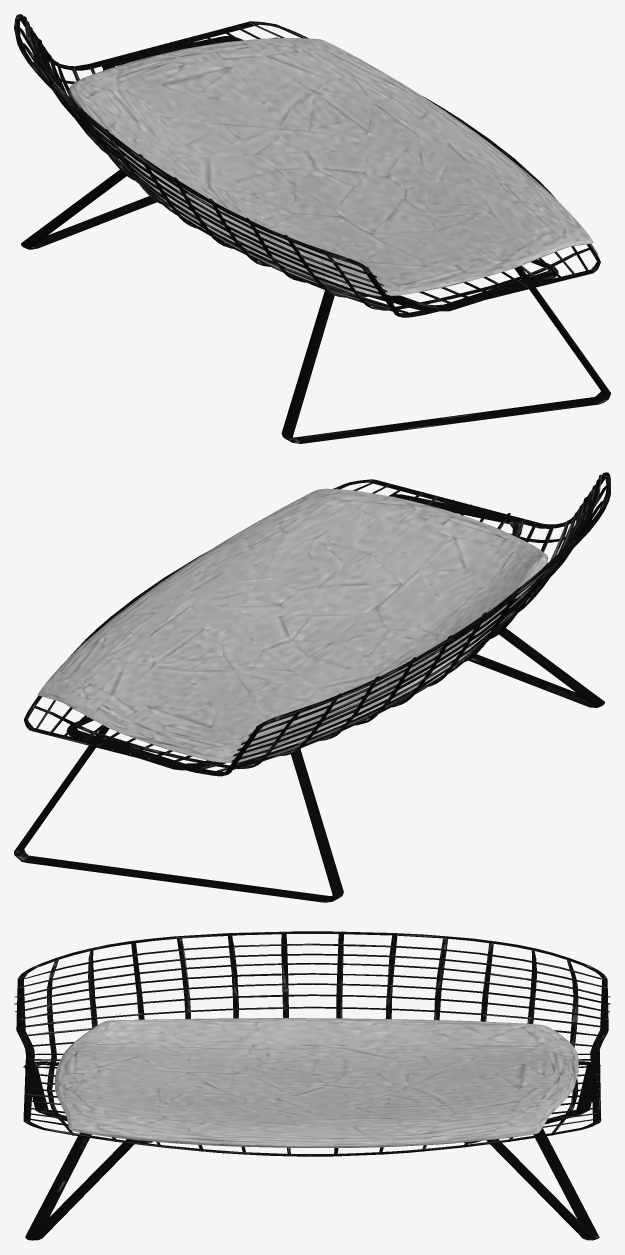
The model's file is chair_5.glb.
The picture shows the model from 3 angles, top to bottom: view 1: azimuth 30°, elevation 25°; view 2: azimuth 150°, elevation 25°; view 3: azimuth 270°, elevation 25°; orthographic projection. The views are drawn at different scales.
Visible parts, largest first — view 1: chair_5; view 2: chair_5; view 3: chair_5.
Part boxes in pixels (bbox=[...]): chair_5: bbox=[14, 14, 610, 443]; chair_5: bbox=[14, 472, 610, 902]; chair_5: bbox=[14, 931, 610, 1240].
Size of the model in its own units: 1.63 by 0.8932 by 2.7.
1 material, 1 textured.
